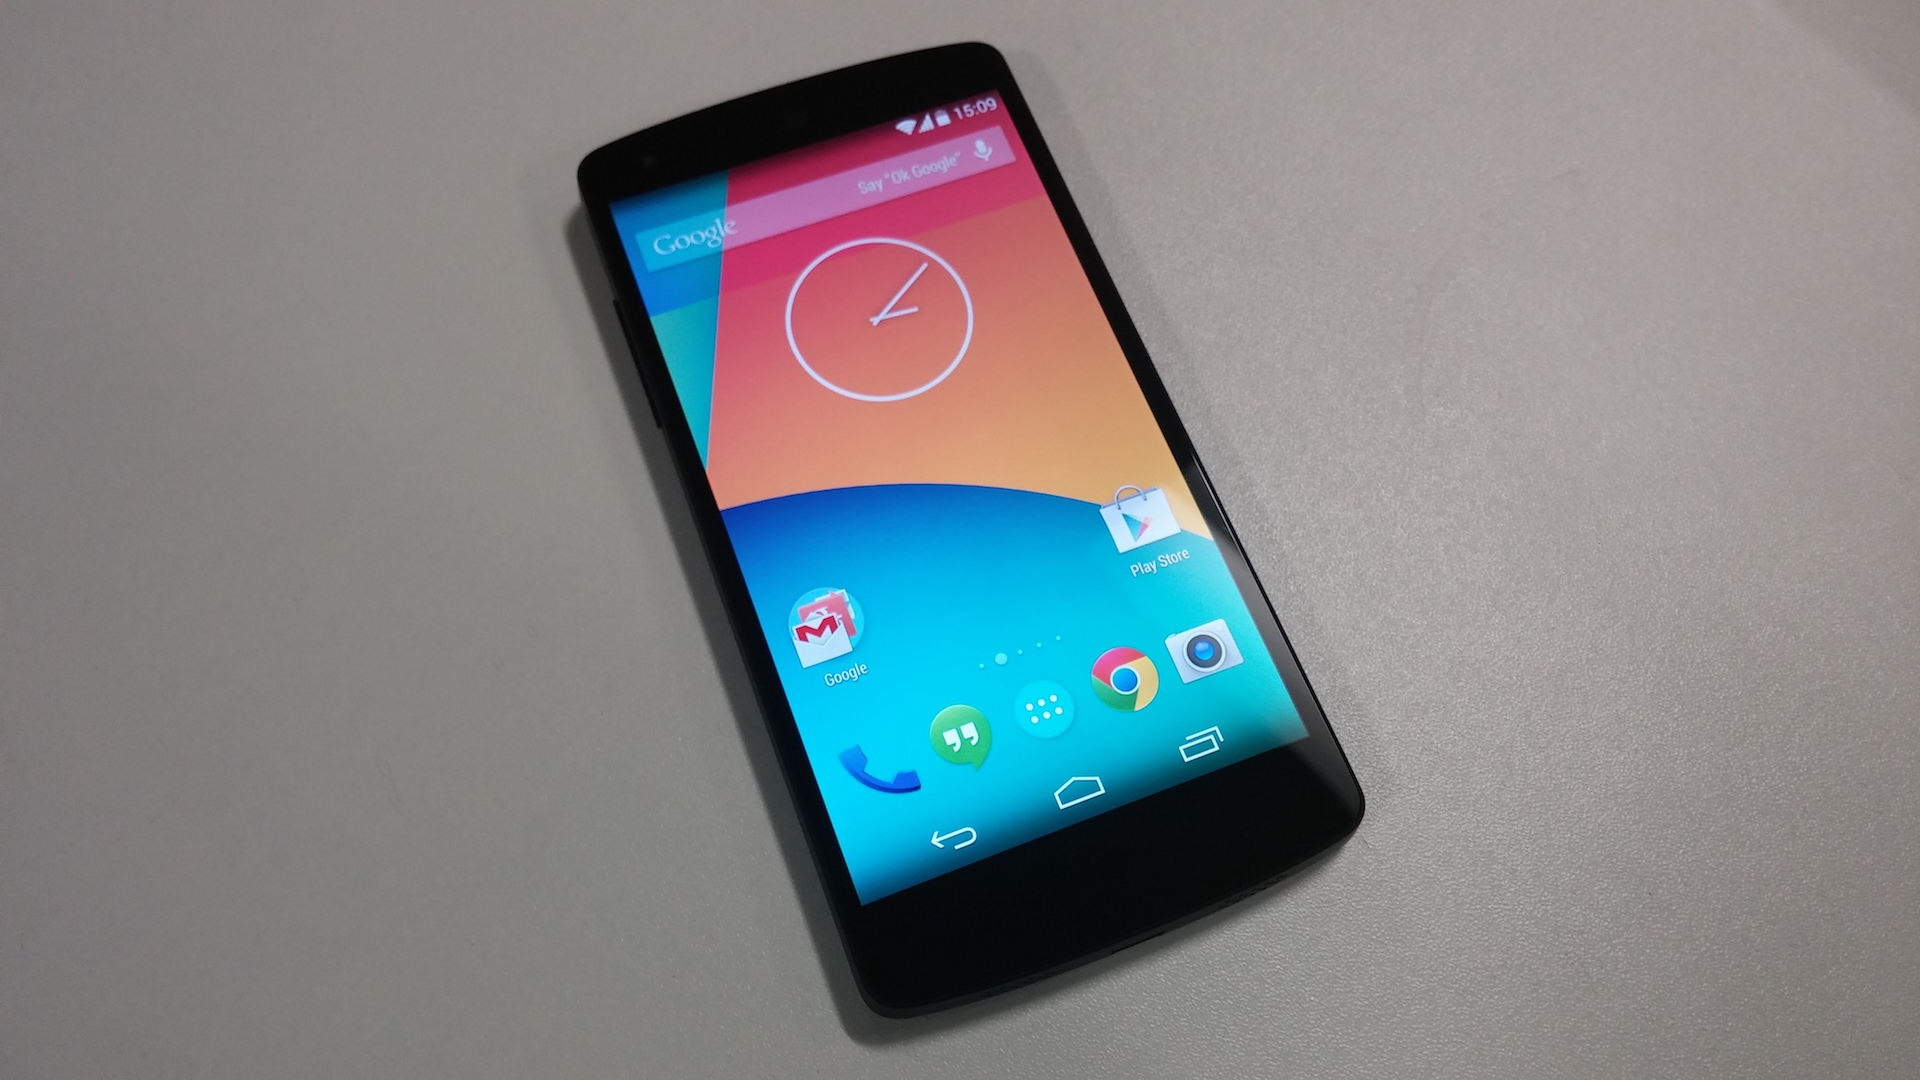smartphone: (574, 40, 1367, 1023)
